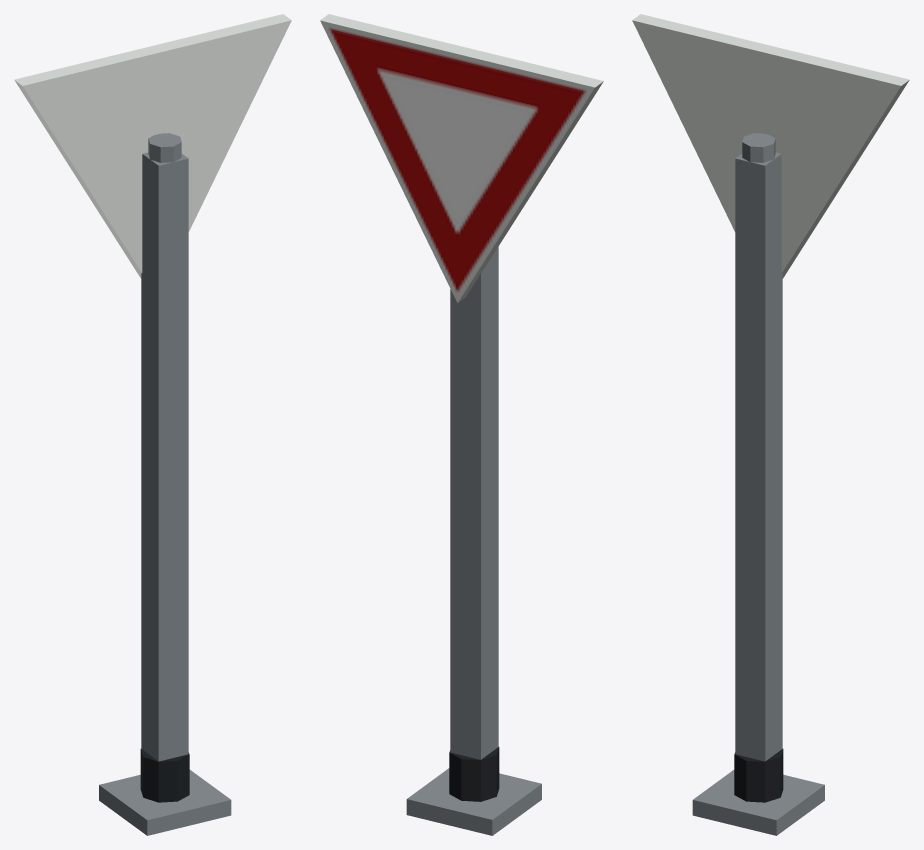
The model's file is give-way-sign.glb.
3 views of the same model, side by side, from view 1: azimuth 30°, elevation 25°; view 2: azimuth 150°, elevation 25°; view 3: azimuth 330°, elevation 25° (orthographic). The views are drawn at different scales.
Parts seen in each view (by area): view 1: give-way-sign (×2); view 2: give-way-sign (×2); view 3: give-way-sign (×2).
Part boxes in pixels (left/top/right/bottom): give-way-sign (×2): left=14, top=14, right=291, bottom=835; give-way-sign (×2): left=320, top=14, right=603, bottom=835; give-way-sign (×2): left=632, top=14, right=909, bottom=835.
Size of the model in its own units: 2.52 by 6.69 by 0.784.
4 materials, 1 textured.
